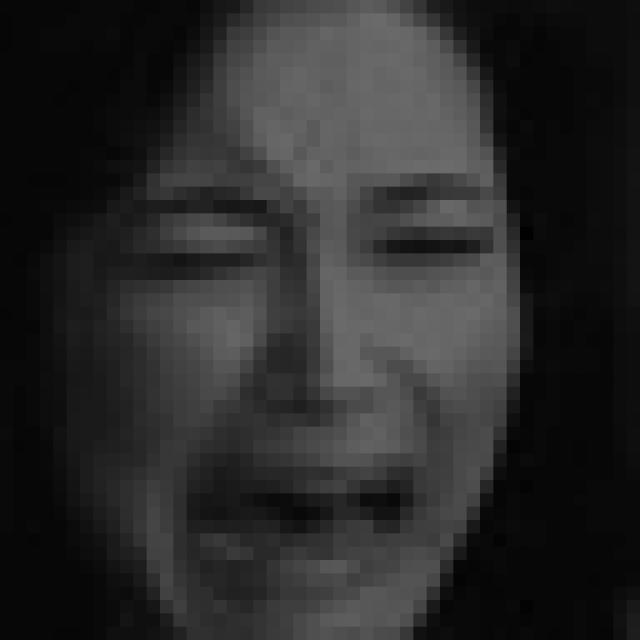sad: (111, 139, 494, 599)
